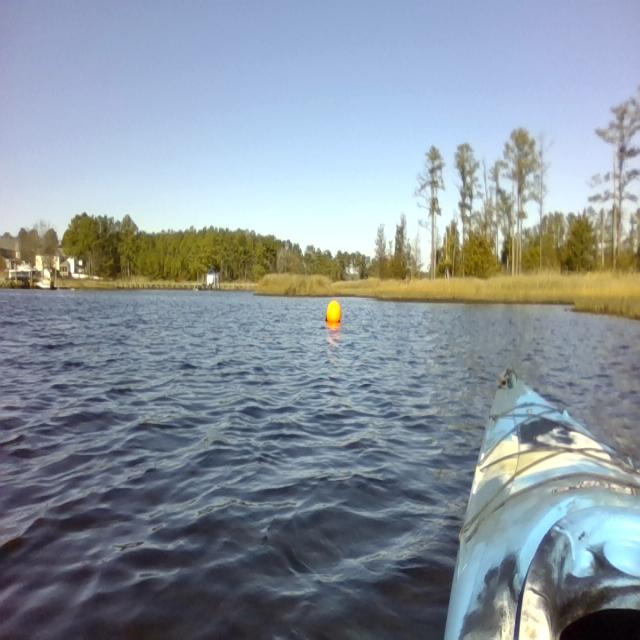Buoy: (322, 295, 344, 329)
